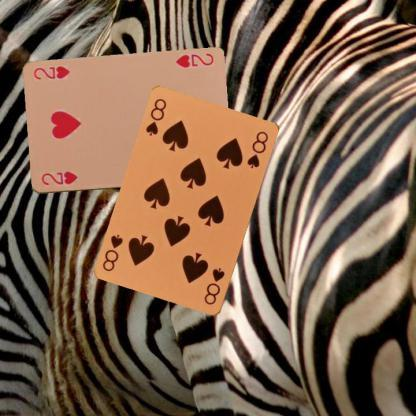2h: (173, 50, 215, 70), (38, 169, 80, 187)
8s: (142, 96, 168, 138), (201, 265, 226, 307)
